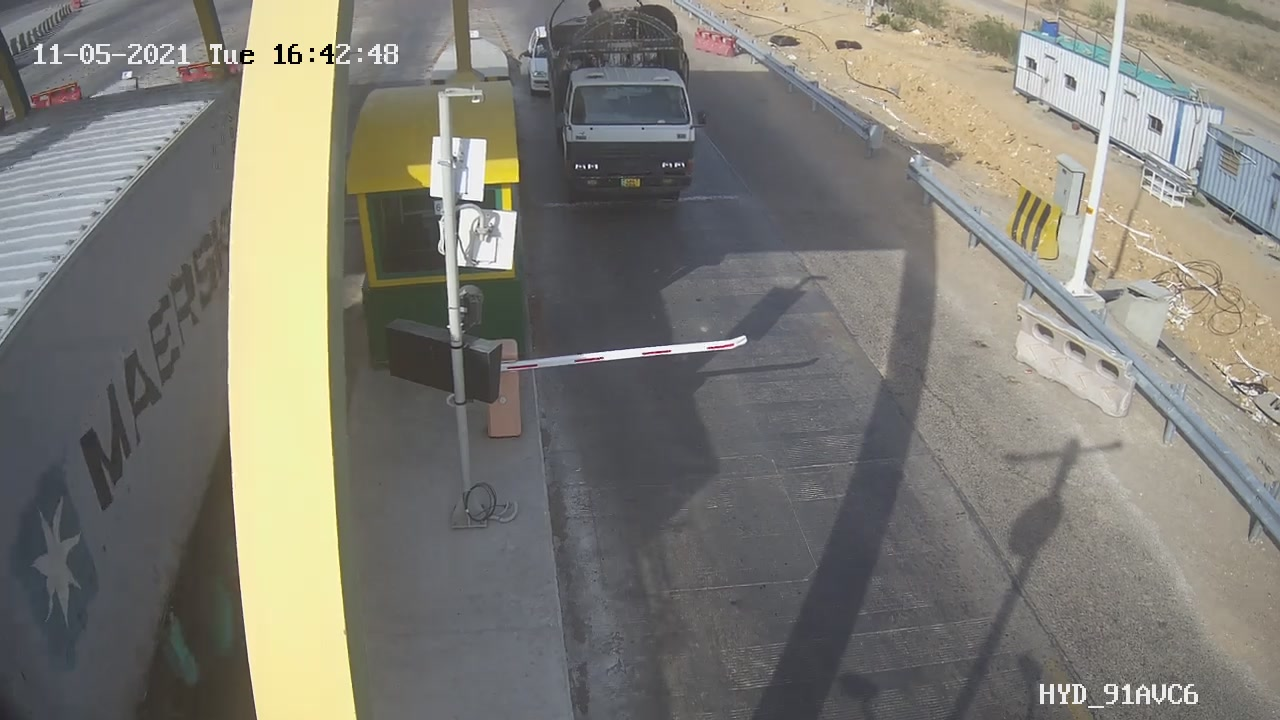F5: (531, 1, 724, 231)
